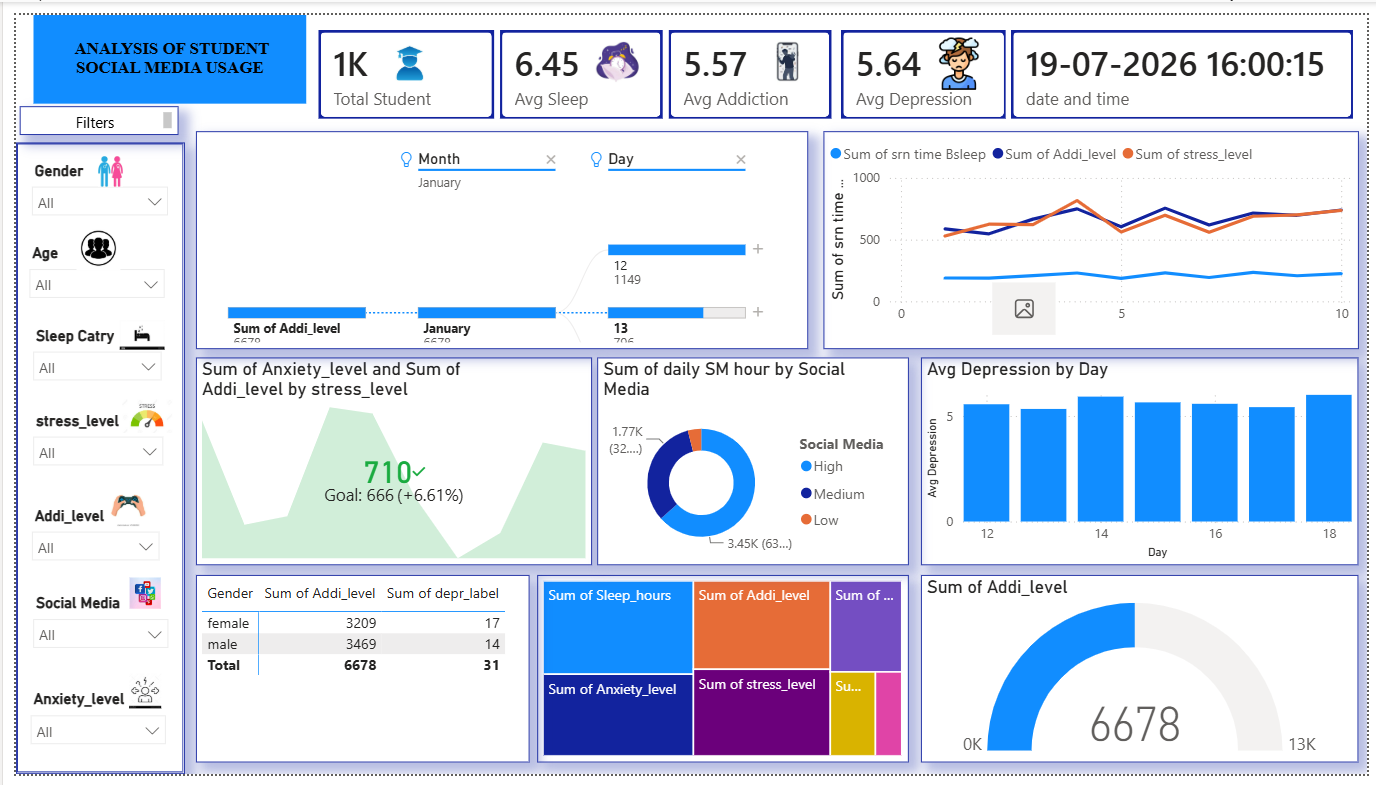

The page's visual inventory and layout, read from the dashboard file:
{"tool":"powerbi","page":{"name":"Page 1","canvas":[1280,720],"ordinal":0},"visuals":[{"type":"shape","box":[0,120.8,159.9,598.1],"z":0},{"type":"slicer","fields":{"Values":["Teen_Mental_Health_Dataset.gender"]},"box":[4.7,133.8,149.2,78.2],"z":1000},{"type":"image","box":[65.1,133.8,48.6,28.4],"z":2000},{"type":"slicer","fields":{"Values":["Teen_Mental_Health_Dataset.age"]},"box":[2.4,212,148,78.2],"z":3000},{"type":"image","box":[50.9,200.1,54.5,41.5],"z":4000},{"type":"slicer","fields":{"Values":["Teen_Mental_Health_Dataset.Sleep Category"]},"box":[5.9,290.2,142.1,75.8],"z":5000},{"type":"image","box":[98.3,281.9,42.6,42.6],"z":6000},{"type":"slicer","fields":{"Values":["Teen_Mental_Health_Dataset.stress_level"]},"box":[5.9,370.7,143.3,77],"z":7000},{"type":"image","box":[99.5,360,49.7,39.1],"z":8000},{"type":"slicer","fields":{"Values":["Teen_Mental_Health_Dataset.addiction_level"]},"box":[4.7,460.7,140.9,87.6],"z":9000},{"type":"image","box":[85.3,447.7,42.6,36.7],"z":10000},{"type":"slicer","fields":{"Values":["Teen_Mental_Health_Dataset.Social Media "]},"box":[5.9,543.6,148,80.5],"z":11000},{"type":"textbox","box":[3.6,86.5,150.4,27.2],"z":12000},{"type":"slicer","fields":{"Values":["Teen_Mental_Health_Dataset.Anxiety_level"]},"box":[3.6,634.8,148,78.2],"z":13000},{"type":"image","box":[90,532.9,65.1,29.6],"z":14000},{"type":"image","box":[93.6,624.1,58,33.2],"z":15000},{"type":"columnChart","fields":{"Y":["Key Measures.Avg Depression"],"Category":["Teen_Mental_Health_Dataset.Age.Variation.Date Hierarchy.Year","Teen_Mental_Health_Dataset.Age.Variation.Date Hierarchy.Quarter","Teen_Mental_Health_Dataset.Age.Variation.Date Hierarchy.Month","Teen_Mental_Health_Dataset.Age.Variation.Date Hierarchy.Day"]},"box":[857.4,324.5,414.5,196.6],"z":16000},{"type":"lineChart","fields":{"Y":["Sum(Teen_Mental_Health_Dataset.screen_time_before_sleep)","Sum(Teen_Mental_Health_Dataset.Addi_level)","Sum(Teen_Mental_Health_Dataset.stress_level)"],"Category":["Teen_Mental_Health_Dataset.Anxiety_level"]},"box":[765.1,110.1,506.9,206.1],"z":17000},{"type":"treemap","fields":{"Values":["Sum(Teen_Mental_Health_Dataset.Sleep_hours)","Sum(Teen_Mental_Health_Dataset.Anxiety_level)","Sum(Teen_Mental_Health_Dataset.Addi_level)","Sum(Teen_Mental_Health_Dataset.stress_level)","Sum(Teen_Mental_Health_Dataset.physical_activity)","Sum(Teen_Mental_Health_Dataset.aca_perf)","Sum(Teen_Mental_Health_Dataset.srn time Bsleep)"]},"box":[493.9,530.6,351.7,177.6],"z":18000},{"type":"kpi","fields":{"Indicator":["Sum(Teen_Mental_Health_Dataset.Anxiety_level)"],"Goal":["Sum(Teen_Mental_Health_Dataset.Addi_level)"],"TrendLine":["Teen_Mental_Health_Dataset.stress_level"]},"box":[170.5,324.5,375.4,196.6],"z":19000},{"type":"decompositionTreeVisual","fields":{"Analyze":["Sum(Teen_Mental_Health_Dataset.Addi_level)"],"ExplainBy":["Teen_Mental_Health_Dataset.Age.Variation.Date Hierarchy.Month","Teen_Mental_Health_Dataset.Age.Variation.Date Hierarchy.Day","Teen_Mental_Health_Dataset.Age.Variation.Date Hierarchy.Year","Teen_Mental_Health_Dataset.Age.Variation.Date Hierarchy.Quarter"]},"box":[170.5,110.1,580.3,206.1],"z":20000},{"type":"donutChart","fields":{"Category":["Teen_Mental_Health_Dataset.Social Media"],"Y":["Sum(Teen_Mental_Health_Dataset.daily SM hour)"]},"box":[550.7,324.5,294.9,196.6],"z":21000},{"type":"pivotTable","fields":{"Values":["Sum(Teen_Mental_Health_Dataset.Addi_level)","Sum(Teen_Mental_Health_Dataset.depr_label)"],"Rows":["Teen_Mental_Health_Dataset.Gender"]},"box":[170.5,530.6,316.2,177.6],"z":22000},{"type":"image","box":[924.9,253.4,60.4,49.7],"z":23000},{"type":"textbox","box":[16.6,0,258.2,84.1],"z":24000},{"type":"cardVisual","fields":{"Data":["Key Measures.Avg Depression"]},"box":[781.6,14.2,161.1,84.1],"z":25000},{"type":"cardVisual","fields":{"Data":["Key Measures.Avg Addiction"]},"box":[618.2,14.2,159.9,84.1],"z":26000},{"type":"cardVisual","fields":{"Data":["Key Measures.Avg Sleep"]},"box":[458.3,14.2,159.9,84.1],"z":27000},{"type":"cardVisual","fields":{"Data":["Key Measures.date and time"]},"box":[942.7,14.2,329.2,84.1],"z":28000},{"type":"gauge","fields":{"Y":["Sum(Teen_Mental_Health_Dataset.Addi_level)"]},"box":[857.4,530.6,414.5,177.6],"z":29000},{"type":"image","box":[538.9,21.3,62.8,46.2],"z":30000},{"type":"image","box":[698.7,20.1,65.1,49.7],"z":31000},{"type":"image","box":[862.2,21.3,62.8,49.7],"z":32000},{"type":"cardVisual","fields":{"Data":["Key Measures.Total Student"]},"box":[286.6,14.2,171.7,84.1],"z":33000},{"type":"image","box":[343.4,20.1,59.2,50.9],"z":34000}]}

Visuals, with their boxes in screenshot pixels (x1, y1, x2, y2), scaled from the page's 1280x720 canvas onto the 1376x785 screenshot:
shape: (0,132,172,784)
slicer - Teen_Mental_Health_Dataset.gender: (5,146,165,231)
image: (70,146,122,177)
slicer - Teen_Mental_Health_Dataset.age: (3,231,162,316)
image: (55,218,113,263)
slicer - Teen_Mental_Health_Dataset.Sleep Category: (6,316,159,399)
image: (106,307,151,354)
slicer - Teen_Mental_Health_Dataset.stress_level: (6,404,160,488)
image: (107,392,160,435)
slicer - Teen_Mental_Health_Dataset.addiction_level: (5,502,157,598)
image: (92,488,137,528)
slicer - Teen_Mental_Health_Dataset.Social Media : (6,593,165,680)
textbox: (4,94,166,124)
slicer - Teen_Mental_Health_Dataset.Anxiety_level: (4,692,163,777)
image: (97,581,167,613)
image: (101,680,163,717)
columnChart - Key Measures.Avg Depression x Teen_Mental_Health_Dataset.Age.Variation.Date Hierarchy.Year: (922,354,1367,568)
lineChart - Sum(Teen_Mental_Health_Dataset.screen_time_before_sleep) x Sum(Teen_Mental_Health_Dataset.Addi_level): (822,120,1367,345)
treemap - Sum(Teen_Mental_Health_Dataset.Sleep_hours) x Sum(Teen_Mental_Health_Dataset.Anxiety_level): (531,579,909,772)
kpi - Sum(Teen_Mental_Health_Dataset.Anxiety_level) x Sum(Teen_Mental_Health_Dataset.Addi_level): (183,354,587,568)
decompositionTreeVisual - Sum(Teen_Mental_Health_Dataset.Addi_level) x Teen_Mental_Health_Dataset.Age.Variation.Date Hierarchy.Month: (183,120,807,345)
donutChart - Teen_Mental_Health_Dataset.Social Media x Sum(Teen_Mental_Health_Dataset.daily SM hour): (592,354,909,568)
pivotTable - Sum(Teen_Mental_Health_Dataset.Addi_level) x Sum(Teen_Mental_Health_Dataset.depr_label): (183,579,523,772)
image: (994,276,1059,330)
textbox: (18,0,295,92)
cardVisual - Key Measures.Avg Depression: (840,15,1013,107)
cardVisual - Key Measures.Avg Addiction: (665,15,836,107)
cardVisual - Key Measures.Avg Sleep: (493,15,665,107)
cardVisual - Key Measures.date and time: (1013,15,1367,107)
gauge - Sum(Teen_Mental_Health_Dataset.Addi_level): (922,579,1367,772)
image: (579,23,647,74)
image: (751,22,821,76)
image: (927,23,994,77)
cardVisual - Key Measures.Total Student: (308,15,493,107)
image: (369,22,433,77)
